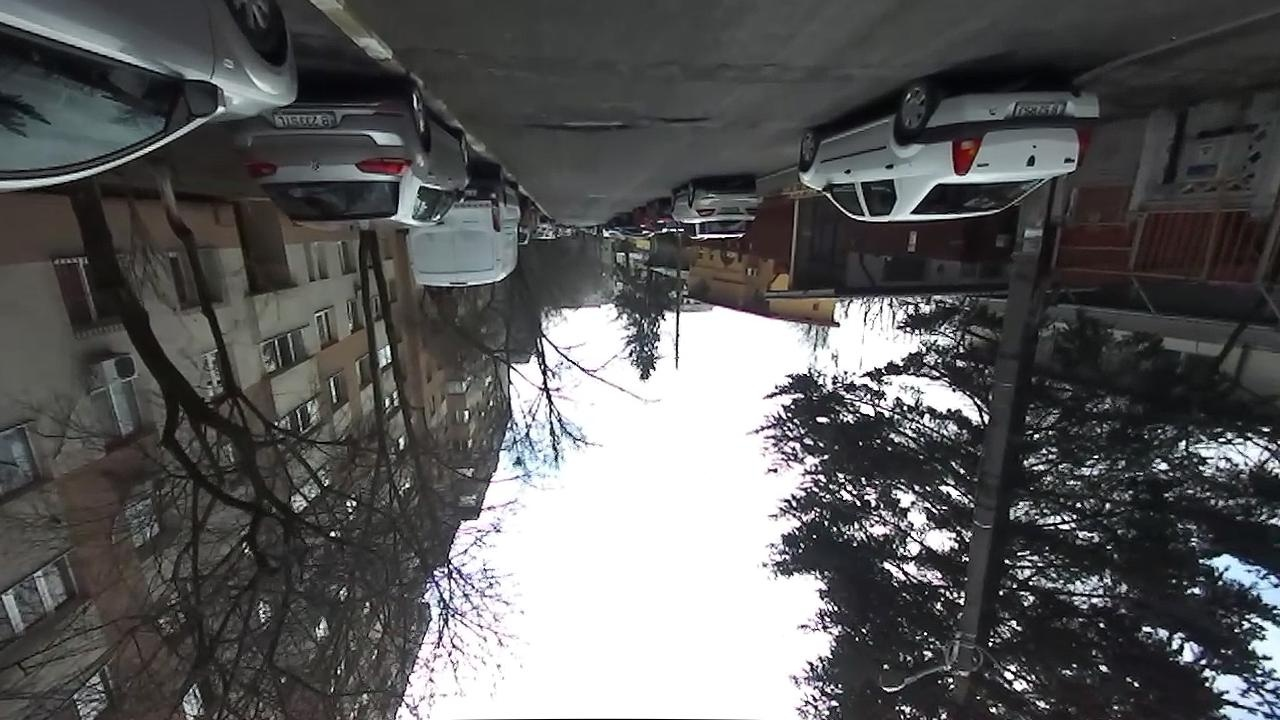pothole: (523, 120, 634, 139), (648, 114, 711, 129)
